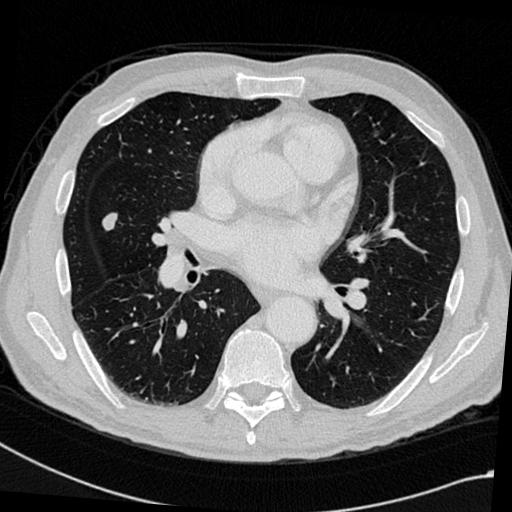nodule: (99, 209, 122, 232)
